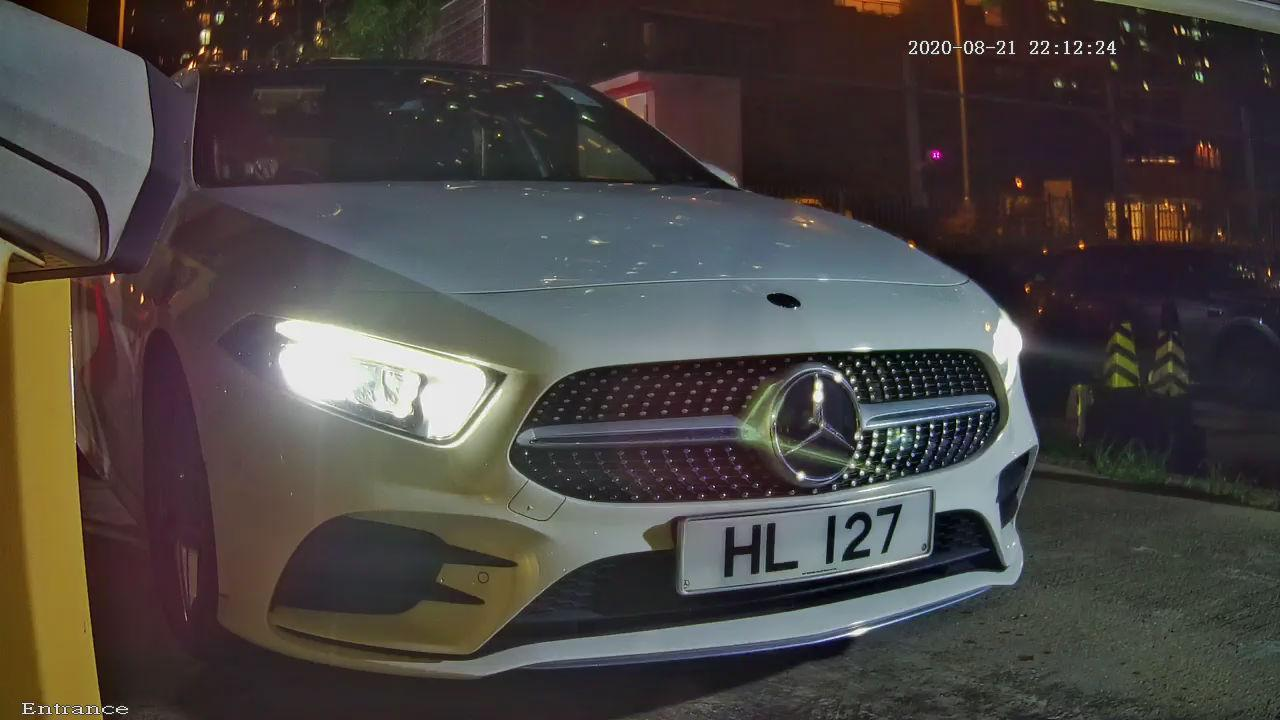Car: (41, 4, 1172, 720)
License Plate: (641, 465, 985, 608)
